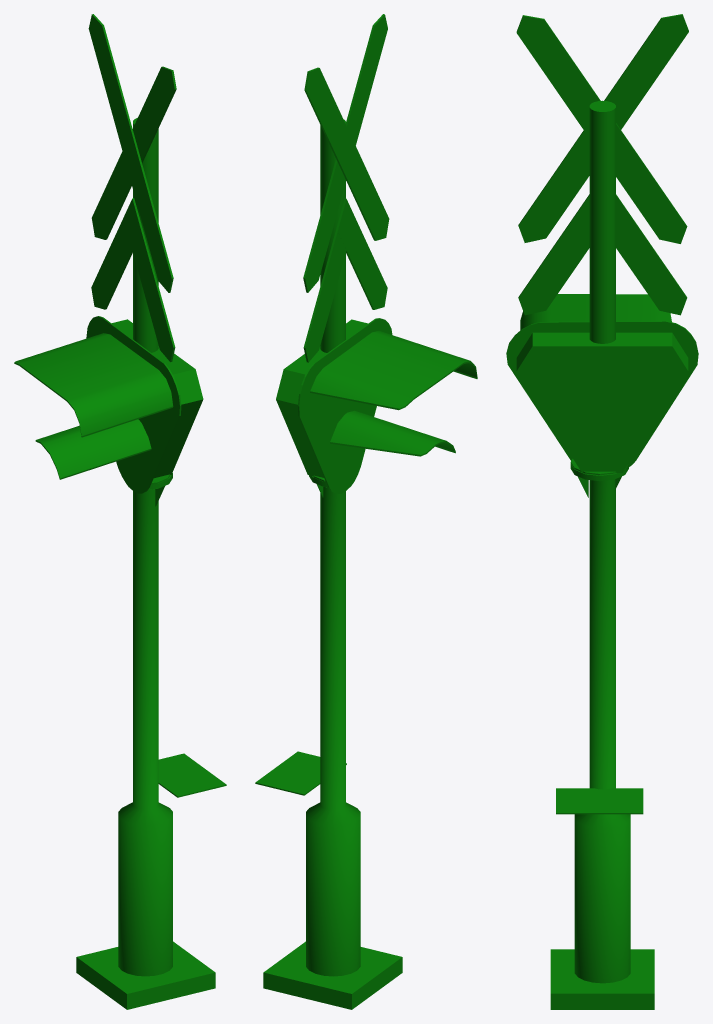
The model's file is crossing.obj.
The picture shows the model from 3 angles, left to right: view 1: azimuth 30°, elevation 25°; view 2: azimuth 150°, elevation 25°; view 3: azimuth 270°, elevation 25°; orthographic projection. The views are drawn at different scales.
Visible parts, largest first — view 1: 1_1000_s3; view 2: 1_1000_s3; view 3: 1_1000_s3.
Part boxes in pixels (bbox=[...]): 1_1000_s3: bbox=[14, 14, 226, 1009]; 1_1000_s3: bbox=[255, 14, 477, 1009]; 1_1000_s3: bbox=[506, 14, 698, 1009].
Bounding box in the file's own units: 0.6627 × 3.66 × 0.6604.
